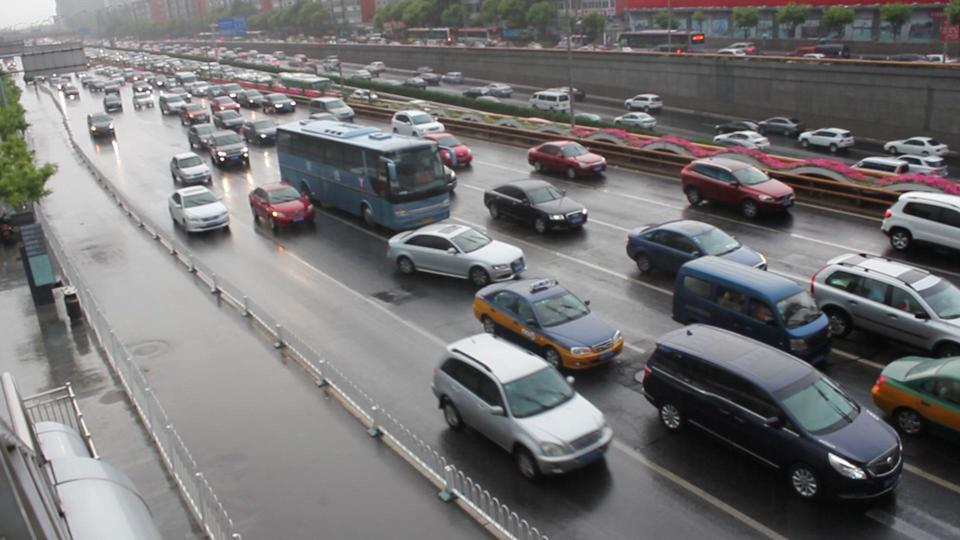bus: (274, 119, 457, 231)
car: (639, 316, 908, 511), (431, 329, 612, 486), (673, 254, 838, 364), (804, 253, 959, 358), (469, 278, 628, 372), (385, 222, 527, 285), (624, 221, 767, 281), (869, 353, 960, 444), (678, 157, 800, 220), (484, 178, 590, 236), (881, 191, 959, 260), (527, 141, 610, 182), (250, 181, 315, 232), (170, 185, 231, 235), (195, 129, 249, 168), (426, 130, 473, 169), (392, 110, 448, 140), (170, 151, 216, 187), (884, 137, 949, 162), (798, 127, 858, 152), (902, 154, 952, 181), (852, 157, 907, 179), (237, 118, 280, 146), (712, 131, 769, 152), (757, 117, 801, 137), (614, 111, 661, 129), (712, 120, 759, 138), (85, 112, 115, 140), (160, 94, 192, 117), (625, 94, 666, 111), (266, 95, 297, 114)
truck: (527, 92, 574, 113)
